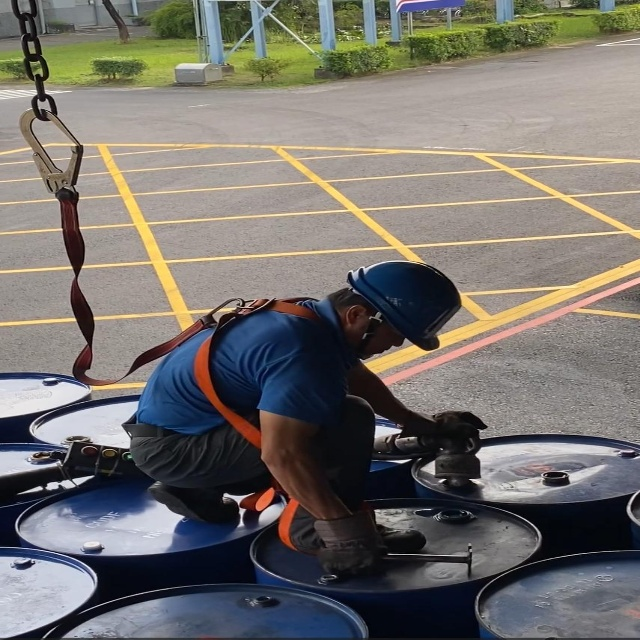Arnes_seguridad: (128, 292, 355, 558)
